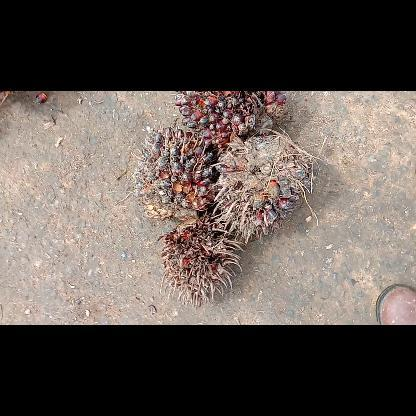TBS abnormal: (214, 133, 312, 241), (134, 122, 216, 219), (160, 214, 242, 302), (174, 90, 286, 148)
